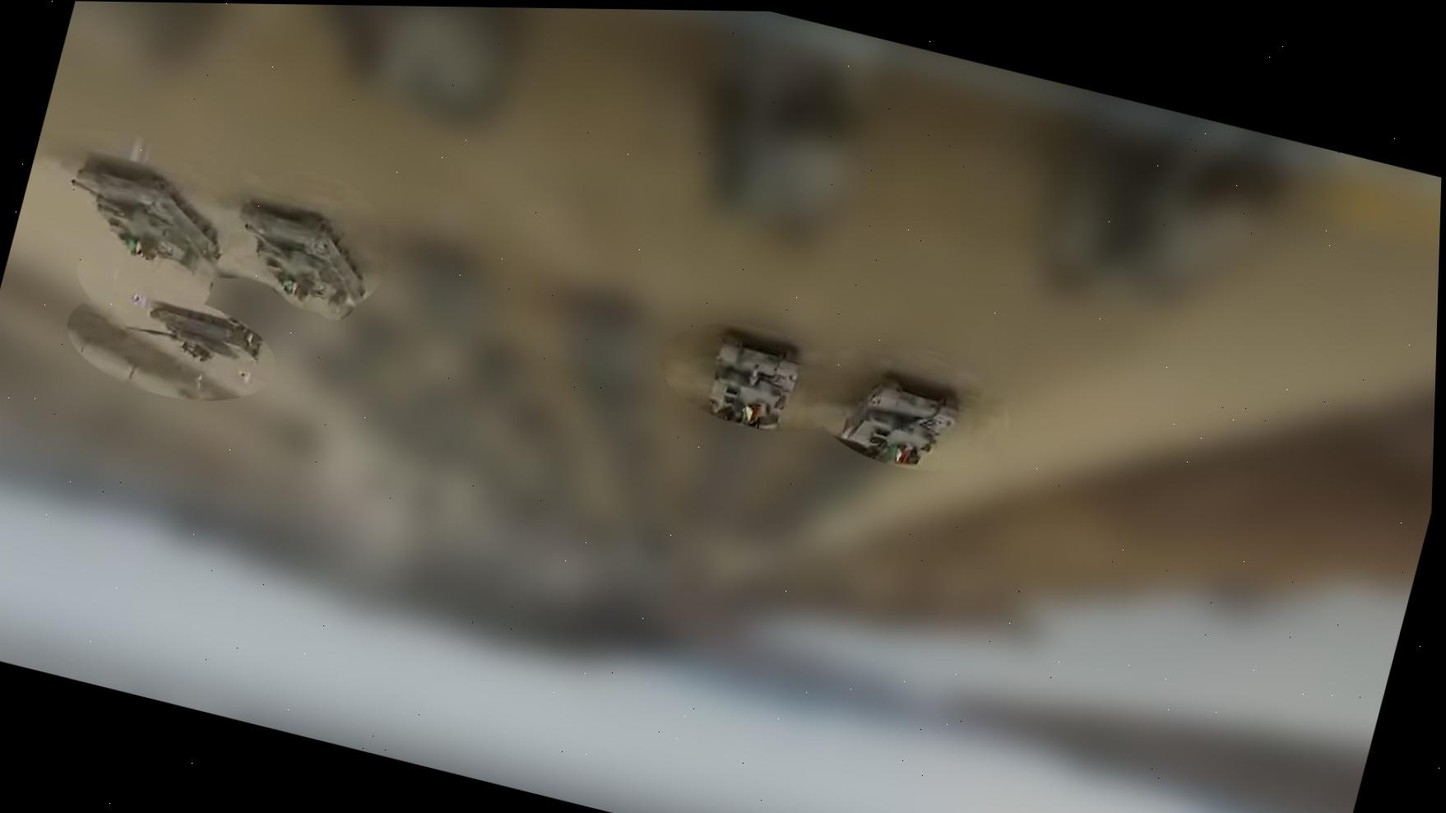tank: (56, 158, 240, 281), (216, 195, 387, 326), (831, 359, 979, 481), (115, 287, 275, 384), (698, 327, 811, 437)
